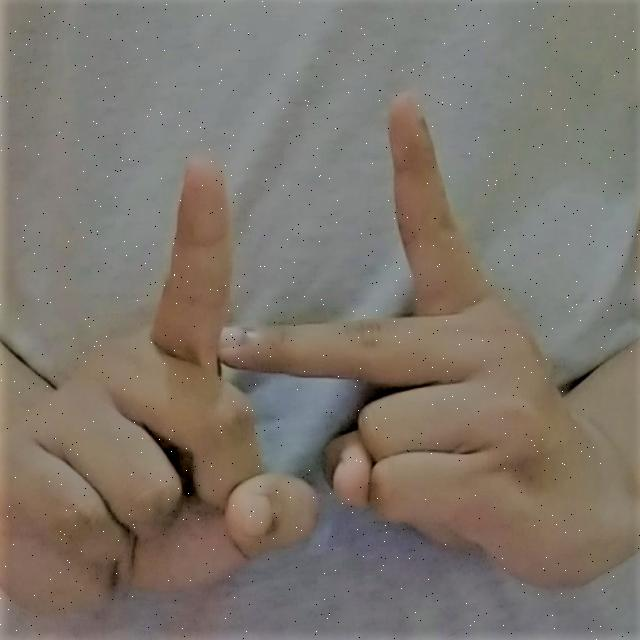H: (14, 83, 625, 621)
